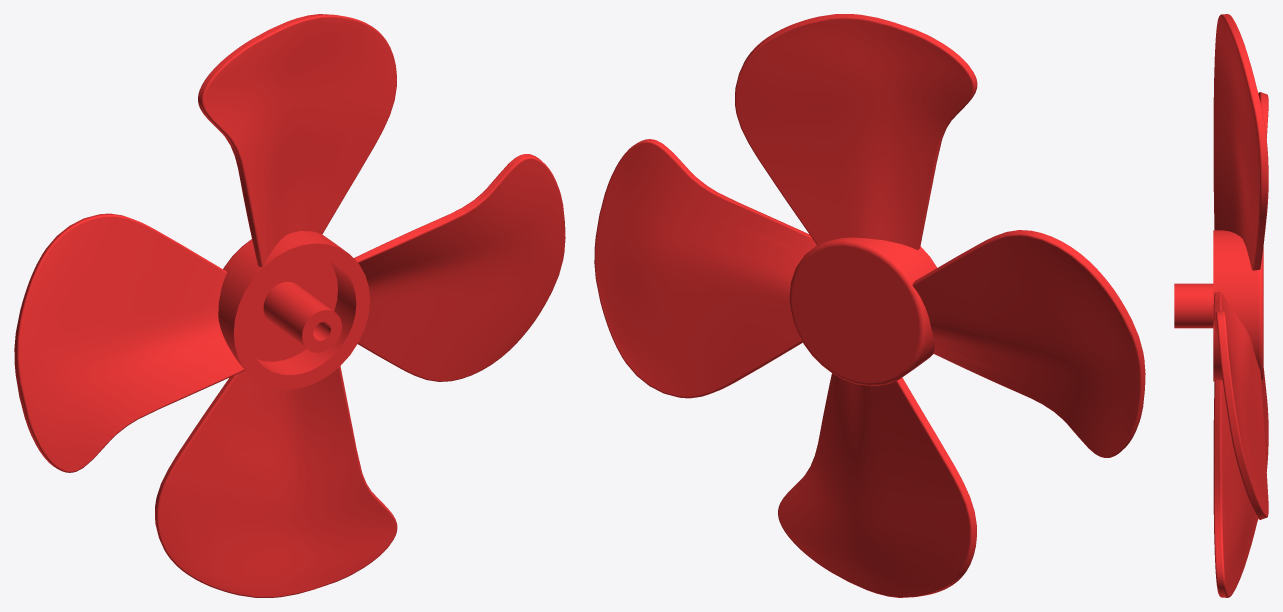
The model's file is 4 Blade Plastic Fan.fbx.
3 renders of one model, left to right at view 1: azimuth 30°, elevation 25°; view 2: azimuth 150°, elevation 25°; view 3: azimuth 270°, elevation 25°, orthographic. The views are drawn at different scales.
Parts seen in each view (by area): view 1: Body1; view 2: Body1; view 3: Body1.
Part boxes in pixels (bbox=[...]): Body1: bbox=[14, 14, 565, 597]; Body1: bbox=[594, 14, 1145, 597]; Body1: bbox=[1174, 14, 1268, 597].
Bounding box in the file's own units: 0.0602 × 0.0602 × 0.00935.
